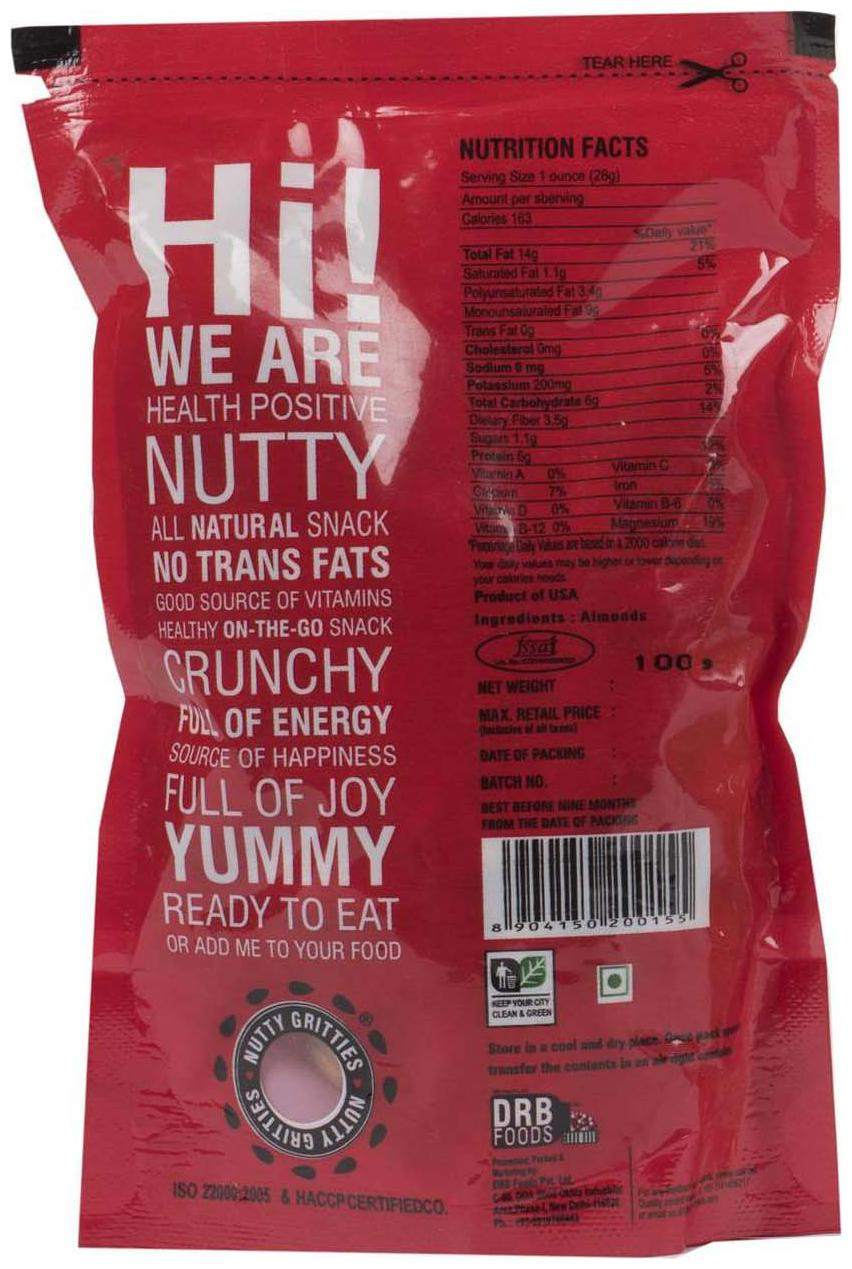fssai: (513, 634, 559, 655)
